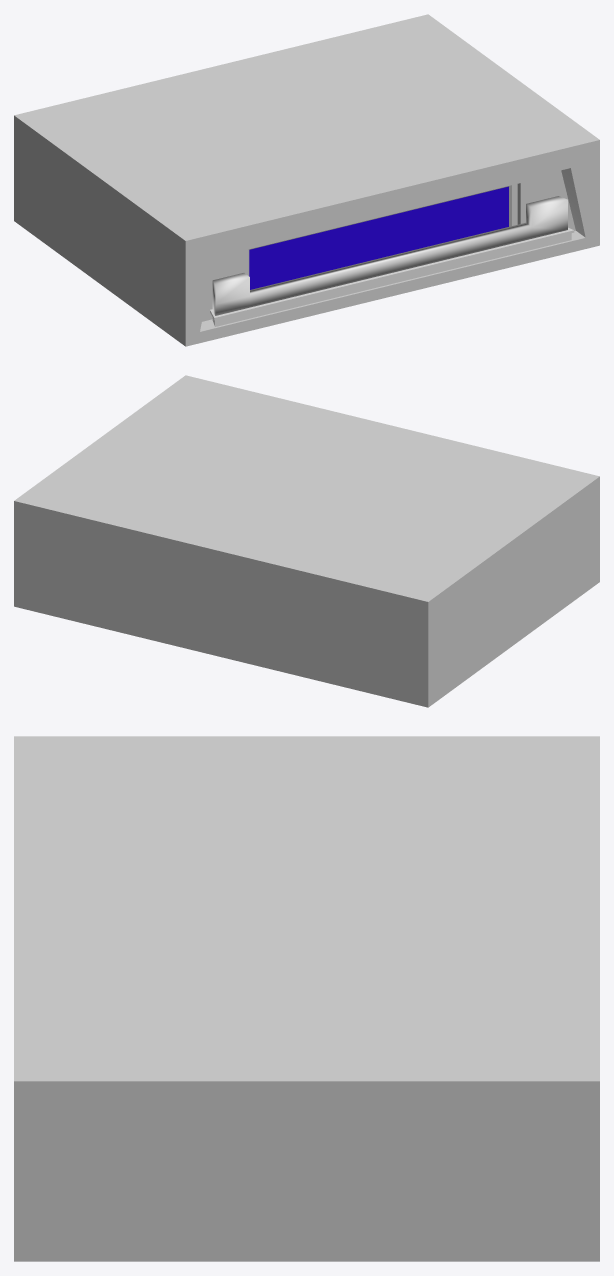
The model's file is BushFloor.fbx.
3 renders of one model, top to bottom at view 1: azimuth 30°, elevation 25°; view 2: azimuth 150°, elevation 25°; view 3: azimuth 270°, elevation 25°, orthographic. The views are drawn at different scales.
Parts seen in each view (by area): view 1: Building floor base.001, Bush, Pot; view 2: Building floor base.001; view 3: Building floor base.001.
Boxes of the visible parts, box(x1,y1,x2,y2) form: Building floor base.001: box(14, 14, 599, 346); Bush: box(212, 196, 567, 315); Pot: box(210, 227, 574, 326); Building floor base.001: box(14, 375, 599, 707); Building floor base.001: box(14, 736, 599, 1261).
Size of the model in its own units: 1600 by 390 by 1148.
